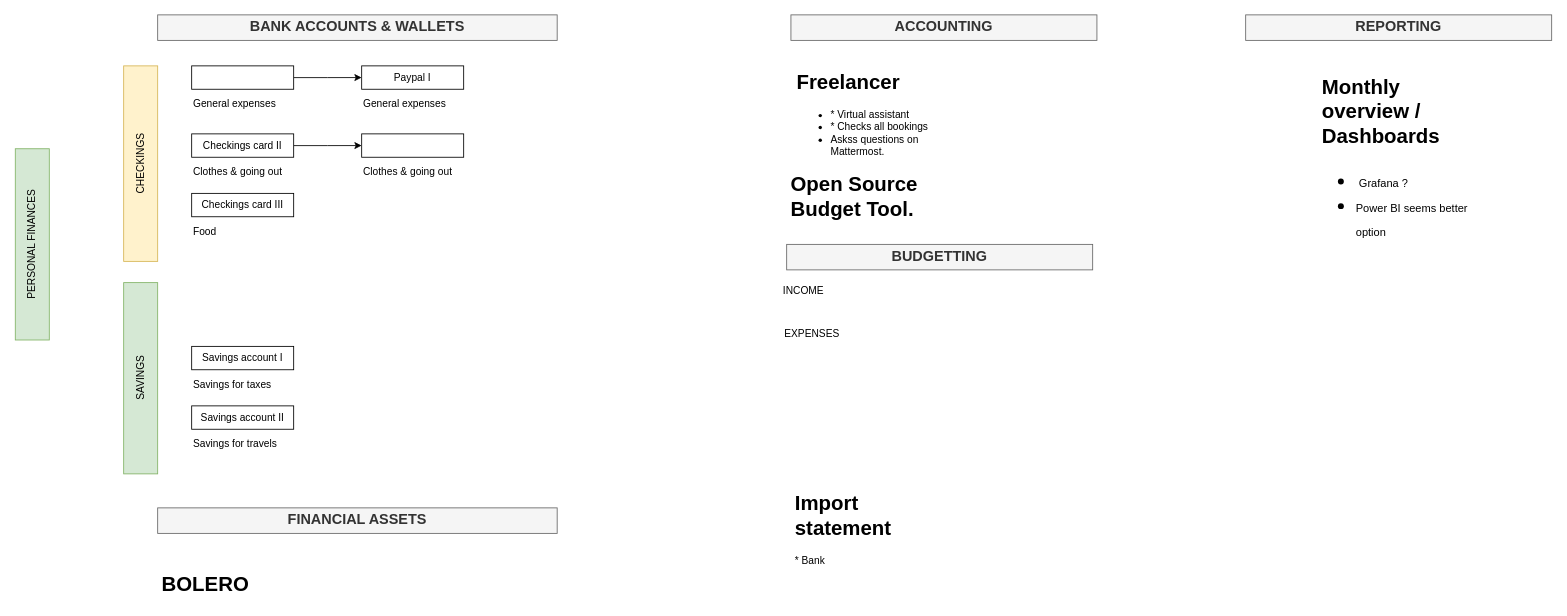
This 1567x616 diagram has some shape labels left out. The centre of each missing label's shape, as x and y in pixels:
"Checkings card I" belongs at (242,77).
"Paypal II" belongs at (412,145).
